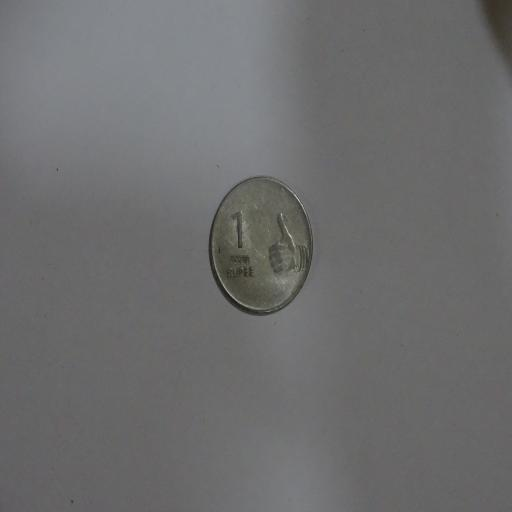rupee1: (208, 175, 315, 316)
